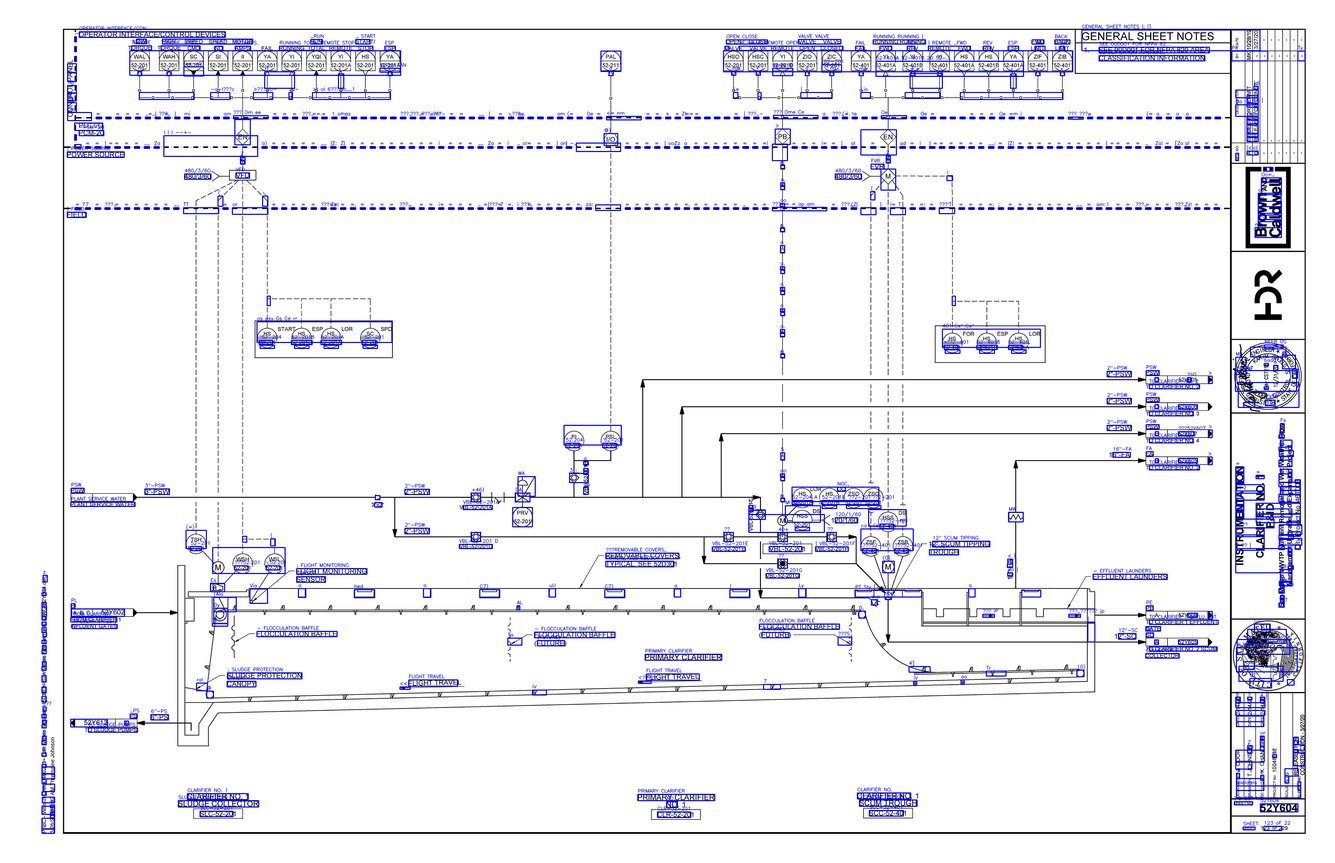Compressor: (373, 494, 382, 502)
Instrumento: (976, 331, 998, 355), (256, 326, 278, 349), (359, 327, 382, 349), (184, 533, 207, 555), (599, 430, 622, 452), (290, 327, 312, 349), (320, 327, 342, 349), (563, 430, 585, 452), (599, 50, 621, 72), (941, 332, 963, 354), (1008, 332, 1030, 354), (791, 488, 814, 509), (819, 487, 840, 509)
Motor: (211, 561, 225, 575), (881, 560, 895, 573), (777, 515, 788, 527)
Outro: (128, 50, 151, 72), (206, 50, 229, 72), (158, 50, 180, 72), (232, 50, 254, 72), (280, 50, 302, 72), (747, 50, 769, 72), (329, 50, 352, 71), (232, 552, 253, 575), (263, 553, 286, 574), (859, 536, 882, 557), (183, 50, 204, 72), (257, 50, 279, 71), (306, 50, 327, 72), (354, 50, 376, 71), (379, 50, 400, 72), (722, 50, 744, 71), (772, 50, 793, 72), (797, 50, 818, 72), (791, 510, 813, 531), (843, 487, 864, 509), (875, 51, 897, 72), (902, 51, 924, 72), (929, 50, 950, 72), (1052, 51, 1074, 72), (821, 51, 842, 72), (850, 51, 871, 72), (954, 50, 975, 71), (978, 51, 999, 72), (1003, 51, 1024, 72), (877, 512, 899, 532), (1027, 51, 1049, 71), (864, 488, 884, 509), (892, 536, 913, 556), (1008, 511, 1024, 523)
Válvula: (514, 478, 532, 505), (489, 490, 506, 505), (469, 490, 483, 504), (776, 530, 789, 544), (776, 556, 789, 570), (824, 531, 838, 544), (567, 472, 580, 485), (722, 531, 735, 544), (470, 530, 482, 543), (754, 508, 766, 520)
